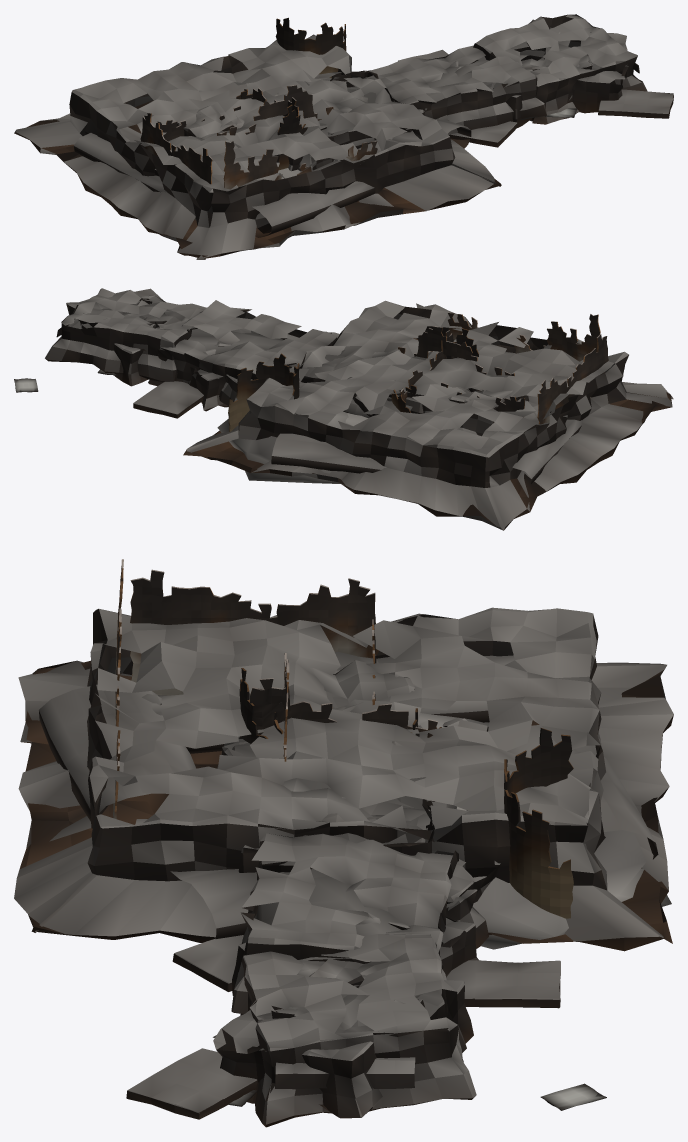
Rendered from rubble.glb.
3 views of the same model, one above another, from view 1: azimuth 30°, elevation 25°; view 2: azimuth 150°, elevation 25°; view 3: azimuth 270°, elevation 25° (orthographic). The views are drawn at different scales.
Visible parts, largest first — view 1: rub_castle_2, fall_sky_1, fall_sky_0, rub_castle_1, fall_turret, fall_sky_2, rub_castle_0; view 2: rub_castle_2, fall_sky_1, fall_sky_2, rub_castle_1, fall_sky_0, fall_turret, rub_castle_0; view 3: rub_castle_2, fall_sky_1, fall_sky_0, fall_sky_2, rub_castle_1, fall_turret, rub_castle_0.
Part boxes in pixels (x1,y1,x2,y2): rub_castle_2: (14,17,501,259); fall_sky_1: (240,14,647,171); fall_sky_0: (230,27,673,147); rub_castle_1: (176,81,401,162); fall_turret: (236,50,572,170); fall_sky_2: (251,40,593,171); rub_castle_0: (140,106,240,176); rub_castle_2: (183,300,673,530); fall_sky_1: (14,288,451,413); fall_sky_2: (82,299,454,418); rub_castle_1: (347,326,537,436); fall_sky_0: (66,288,453,417); fall_turret: (144,316,478,417); rub_castle_0: (441,382,567,423); rub_castle_2: (14,559,673,951); fall_sky_1: (231,708,606,1127); fall_sky_0: (126,687,488,1119); fall_sky_2: (222,678,560,1061); rub_castle_1: (151,653,434,801); fall_turret: (239,668,456,1027); rub_castle_0: (326,619,467,726).
Bounding box in the file's own units: 8.48 × 1.63 × 5.12.
